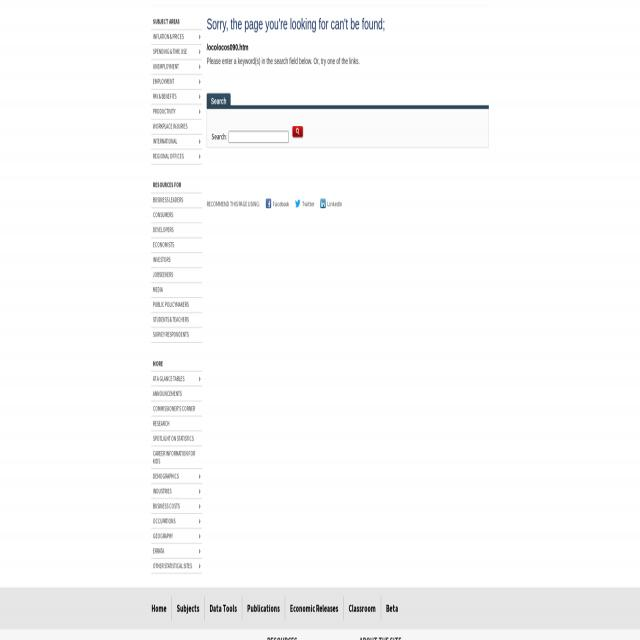button: (285, 596, 343, 621), (151, 446, 202, 469), (242, 596, 284, 621), (204, 596, 242, 621), (343, 596, 381, 621), (172, 596, 204, 621), (151, 104, 202, 119), (151, 119, 202, 134), (151, 135, 202, 150), (151, 149, 202, 164), (151, 178, 202, 193), (151, 193, 202, 208), (151, 223, 202, 238), (151, 238, 202, 253), (151, 356, 202, 371), (151, 371, 202, 386), (151, 401, 202, 416), (151, 416, 202, 431), (151, 431, 202, 446), (151, 558, 202, 573), (151, 59, 202, 74), (150, 469, 202, 483), (151, 90, 202, 104), (151, 208, 202, 222), (151, 15, 202, 29), (151, 253, 202, 267), (151, 268, 202, 282), (151, 283, 202, 297), (151, 298, 202, 312), (151, 313, 202, 327), (151, 328, 202, 342), (151, 30, 202, 44), (151, 387, 202, 401), (151, 484, 202, 498), (151, 499, 202, 513), (151, 45, 202, 59), (151, 514, 202, 528), (151, 529, 202, 543), (151, 544, 202, 558), (151, 75, 202, 89), (146, 596, 172, 621), (381, 596, 403, 621), (292, 125, 303, 138), (295, 198, 301, 208), (320, 198, 326, 208), (266, 198, 271, 208)
field: (229, 132, 289, 143)
